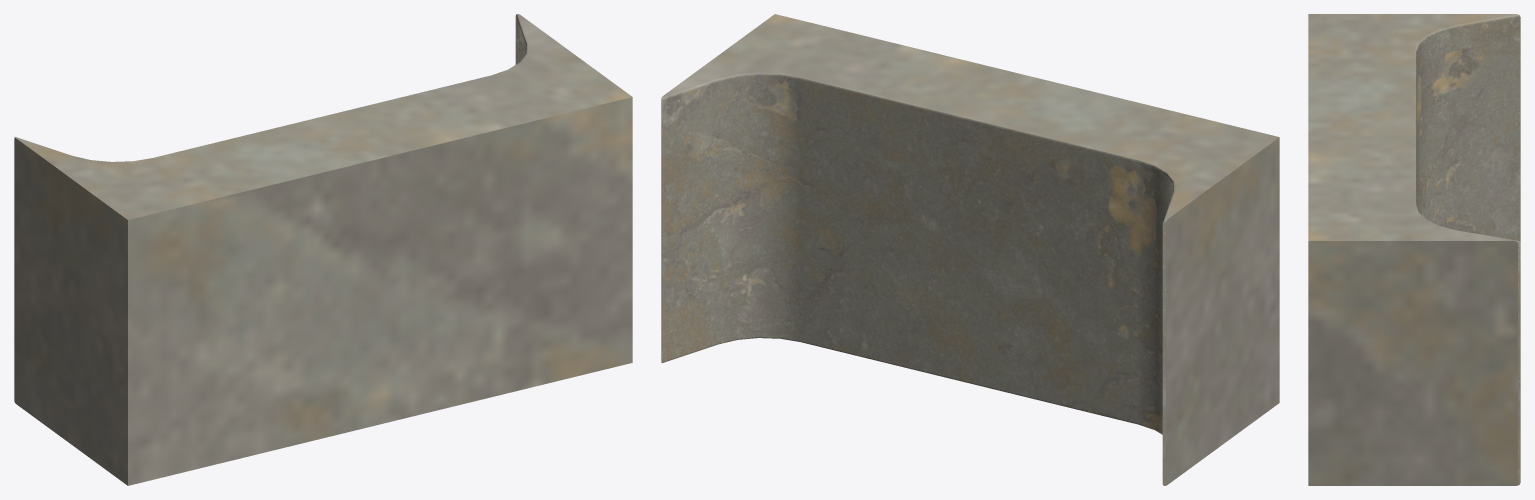
The model's file is SM_CorridorBlock_FullM.fbx.
The picture shows the model from 3 angles, left to right: view 1: azimuth 30°, elevation 25°; view 2: azimuth 150°, elevation 25°; view 3: azimuth 270°, elevation 25°; orthographic projection. The views are drawn at different scales.
Visible parts, largest first — view 1: SM_CorridorBlock_FullM_LOD0; view 2: SM_CorridorBlock_FullM_LOD0; view 3: SM_CorridorBlock_FullM_LOD0.
Boxes of the visible parts, left/top/right/bottom form: SM_CorridorBlock_FullM_LOD0: left=14, top=14, right=632, bottom=485; SM_CorridorBlock_FullM_LOD0: left=661, top=14, right=1279, bottom=485; SM_CorridorBlock_FullM_LOD0: left=1308, top=14, right=1520, bottom=485.
Bounding box in the file's own units: 99.34 × 39.23 × 50.
Materials: 1 (1 with a texture image).
